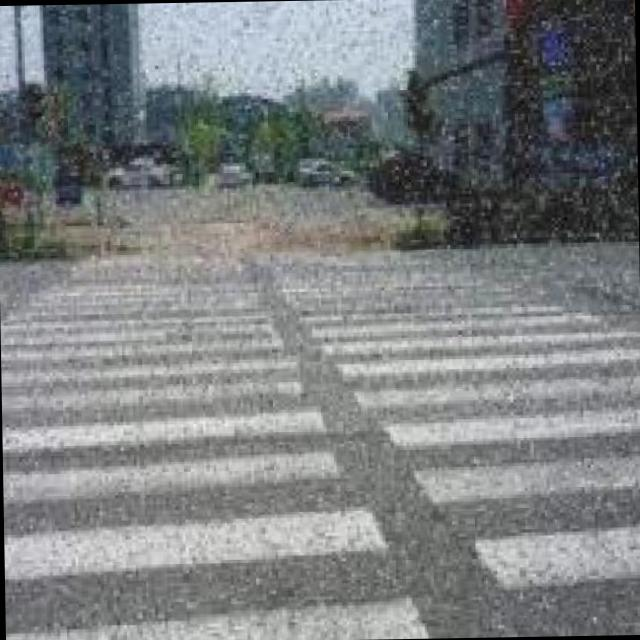zebra: (0, 236, 640, 640)
